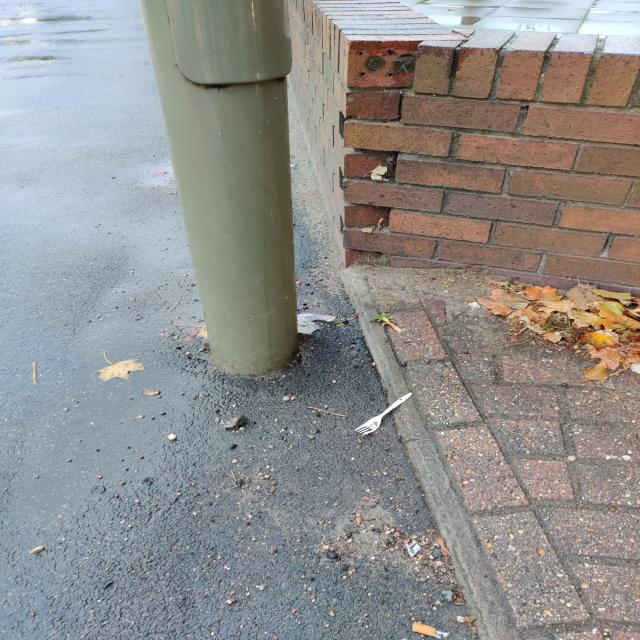litter: (343, 387, 416, 436)
